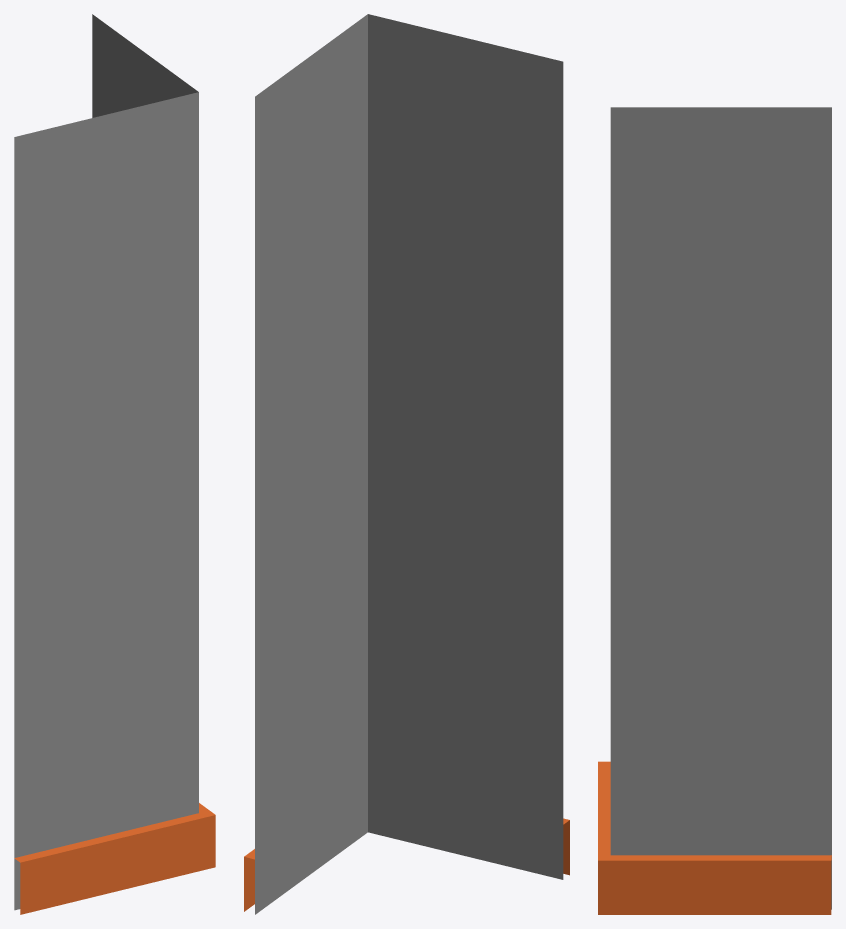
Rendered from ModuleD_corner_inver2.FBX.
3 views of the same model, side by side, from view 1: azimuth 30°, elevation 25°; view 2: azimuth 150°, elevation 25°; view 3: azimuth 270°, elevation 25° (orthographic). The views are drawn at different scales.
Visible parts, largest first — view 1: ModuleD_wall_02, ModuleD_skboard_04; view 2: ModuleD_wall_02, ModuleD_skboard_04; view 3: ModuleD_wall_02, ModuleD_skboard_04.
Part boxes in pixels (box(x1,y1,x2,y2)): ModuleD_wall_02: box(14, 14, 198, 910); ModuleD_skboard_04: box(14, 803, 215, 914); ModuleD_wall_02: box(255, 14, 563, 914); ModuleD_skboard_04: box(244, 818, 569, 911); ModuleD_wall_02: box(610, 107, 831, 909); ModuleD_skboard_04: box(598, 761, 831, 914).
Size of the model in its own units: 20.83 by 20.81 by 78.74.
